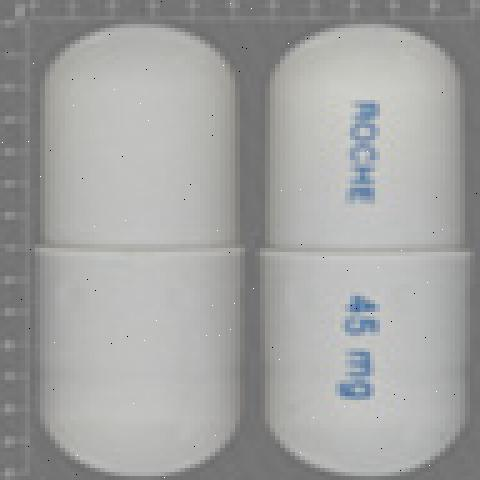Pill: (24, 16, 255, 474), (249, 17, 474, 477)
